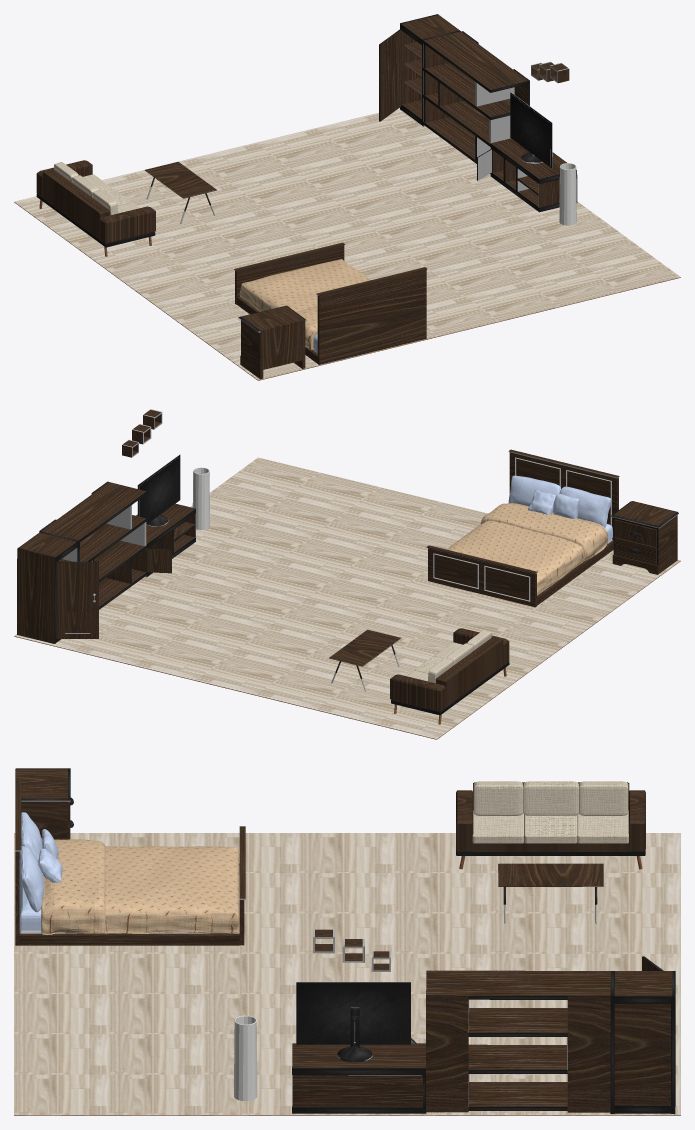
The model's file is T1 Set 2 Pos 9.glb.
3 renders of one model, top to bottom at view 1: azimuth 30°, elevation 25°; view 2: azimuth 150°, elevation 25°; view 3: azimuth 270°, elevation 25°, orthographic. The views are drawn at different scales.
Bounding box in the file's own units: 0.2923 × 0.0855 × 0.292.
Materials: 10 (9 with a texture image).
